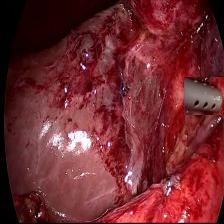Irrigator: (184, 77, 224, 115)
